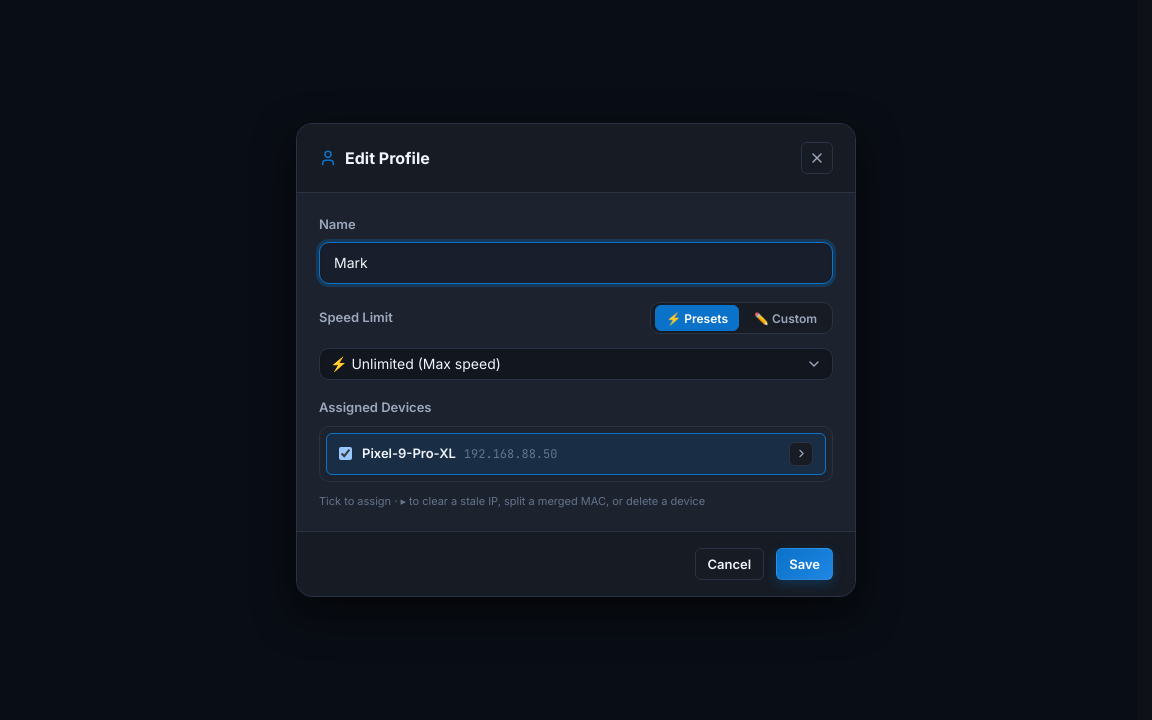
Scenario: UserModal device maintenance › deletes a device after confirmation and drops it from the list
Step 1. Click the button named "Maintenance actions" → (801, 454), box left=789, top=442, right=813, bottom=466
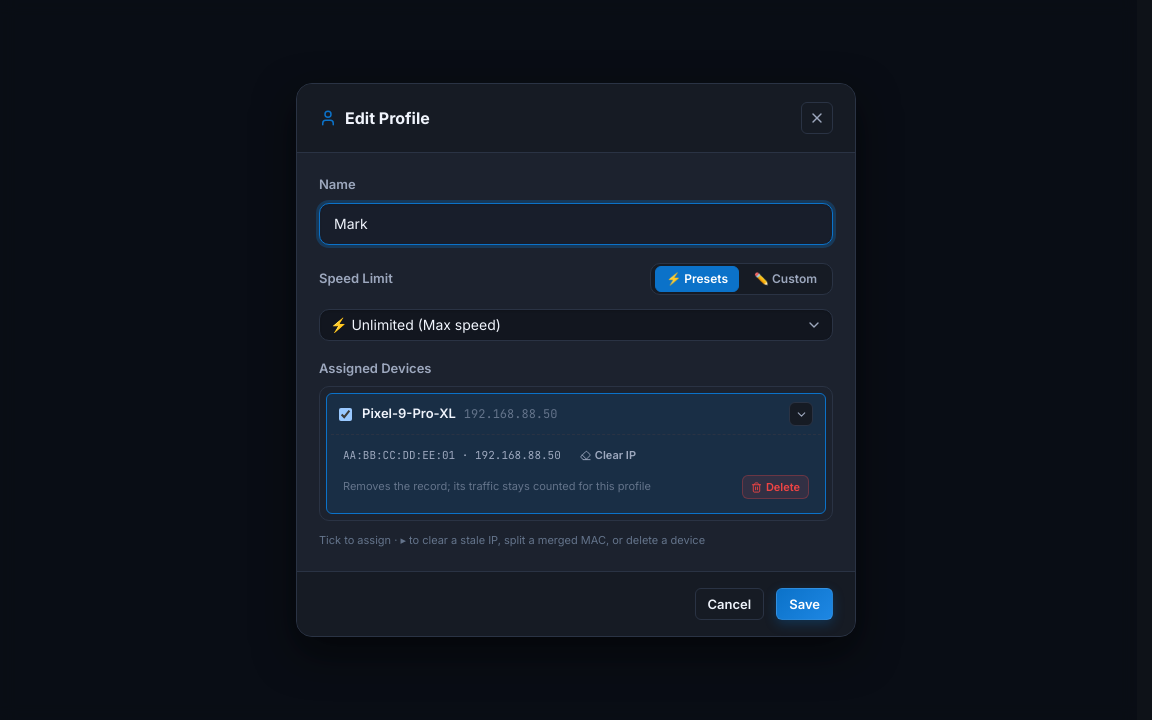
Step 2. Click the button "Delete" → (775, 487), box left=742, top=475, right=809, bottom=499
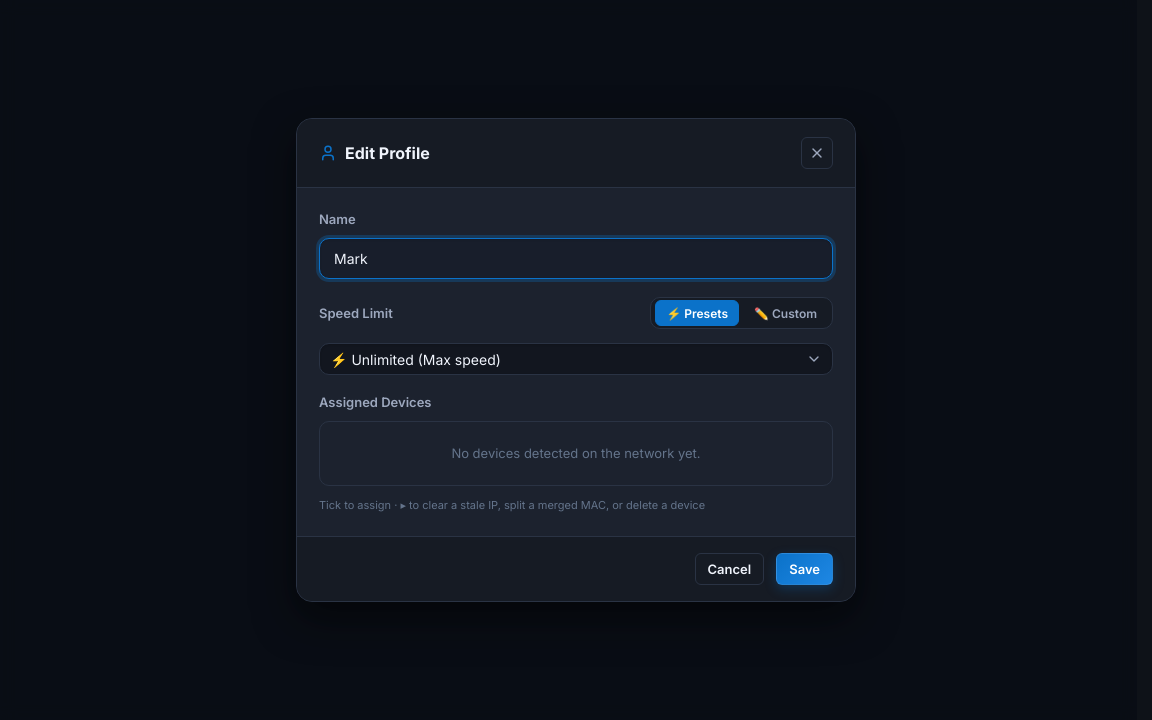
Expected: the text "Pixel-9-Pro-XL" is gone
